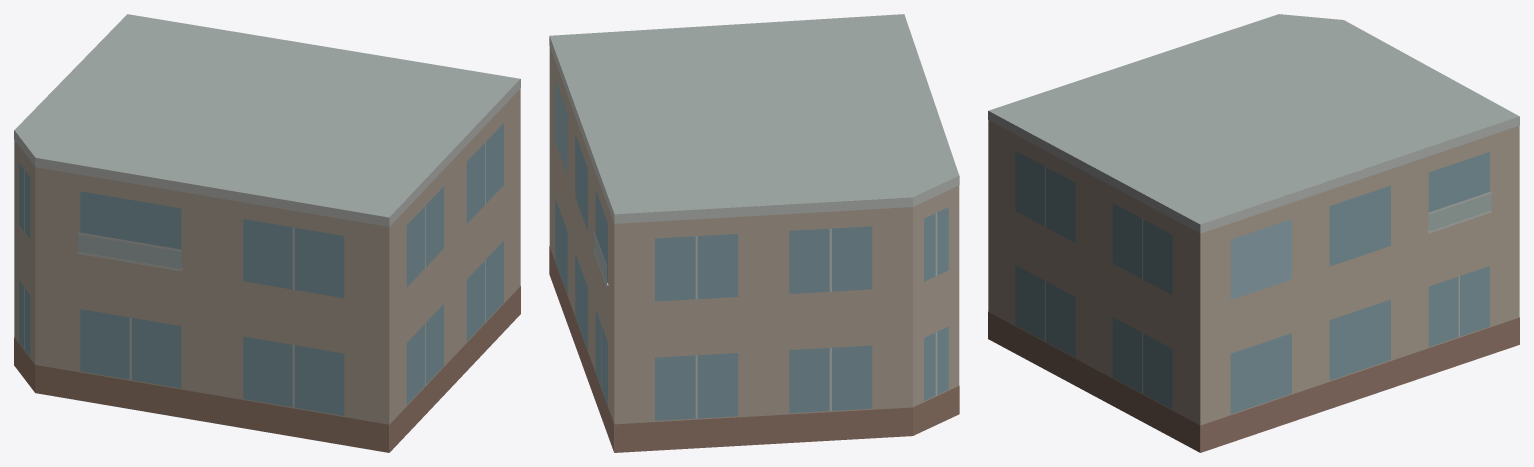
Rendered from survey-upis-32731766.glb.
The picture shows the model from 3 angles, left to right: view 1: azimuth 30°, elevation 25°; view 2: azimuth 150°, elevation 25°; view 3: azimuth 270°, elevation 25°; orthographic projection. The views are drawn at different scales.
Visible parts, largest first — view 1: survey-upis-32731766.tmp; view 2: survey-upis-32731766.tmp; view 3: survey-upis-32731766.tmp.
Part boxes in pixels (x1,y1,x2,y2): survey-upis-32731766.tmp: (14, 14, 520, 452); survey-upis-32731766.tmp: (549, 14, 959, 452); survey-upis-32731766.tmp: (988, 14, 1519, 452).
Bounding box in the file's own units: 12.08 × 6.1 × 12.88.
